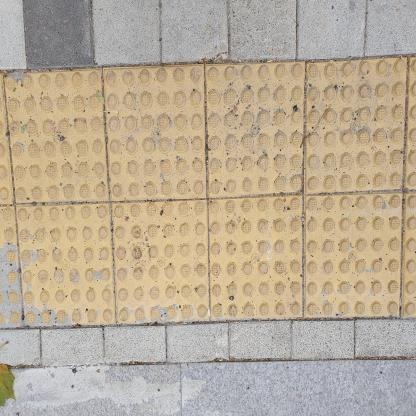podotacti: (0, 42, 415, 343)
